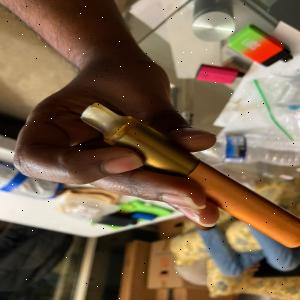Golden-E-Ciggirate: (78, 103, 300, 247)
